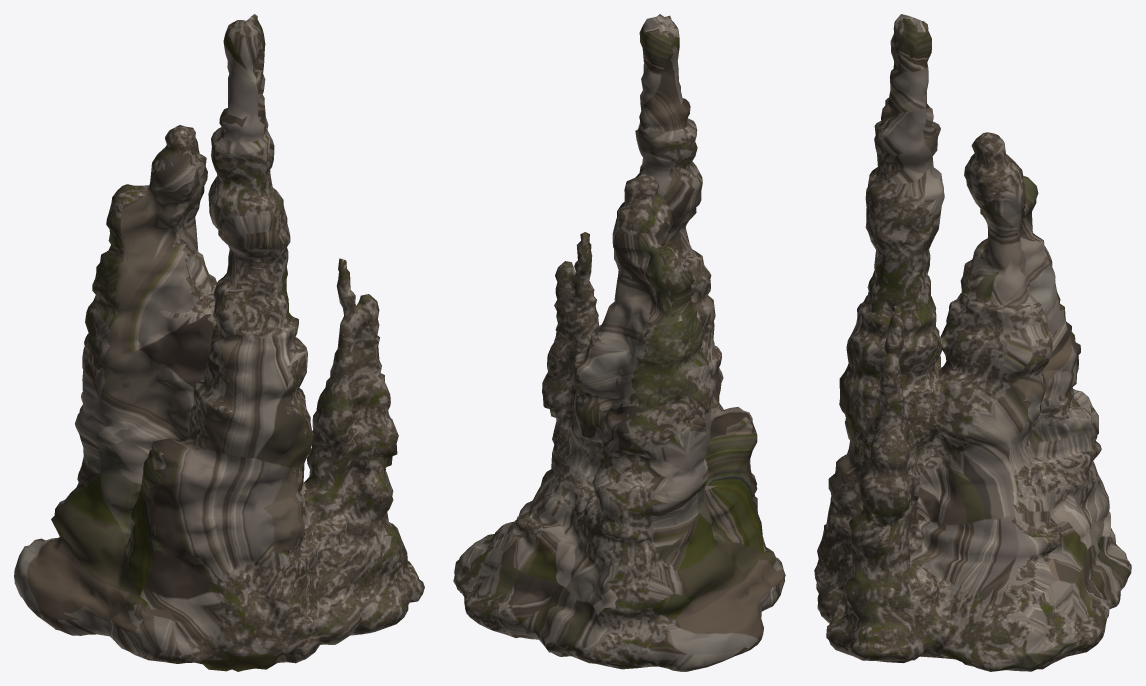
Rendered from SM_Stalacite_B.fbx.
3 renders of one model, left to right at view 1: azimuth 30°, elevation 25°; view 2: azimuth 150°, elevation 25°; view 3: azimuth 270°, elevation 25°, orthographic. The views are drawn at different scales.
Visible parts, largest first — view 1: SM_Stalacite_B_LOD0; view 2: SM_Stalacite_B_LOD0; view 3: SM_Stalacite_B_LOD0.
Part boxes in pixels (x1,y1,x2,y2): SM_Stalacite_B_LOD0: (14, 14, 424, 671); SM_Stalacite_B_LOD0: (453, 14, 785, 671); SM_Stalacite_B_LOD0: (814, 14, 1131, 671).
Size of the model in its own units: 433 by 381 by 796.
